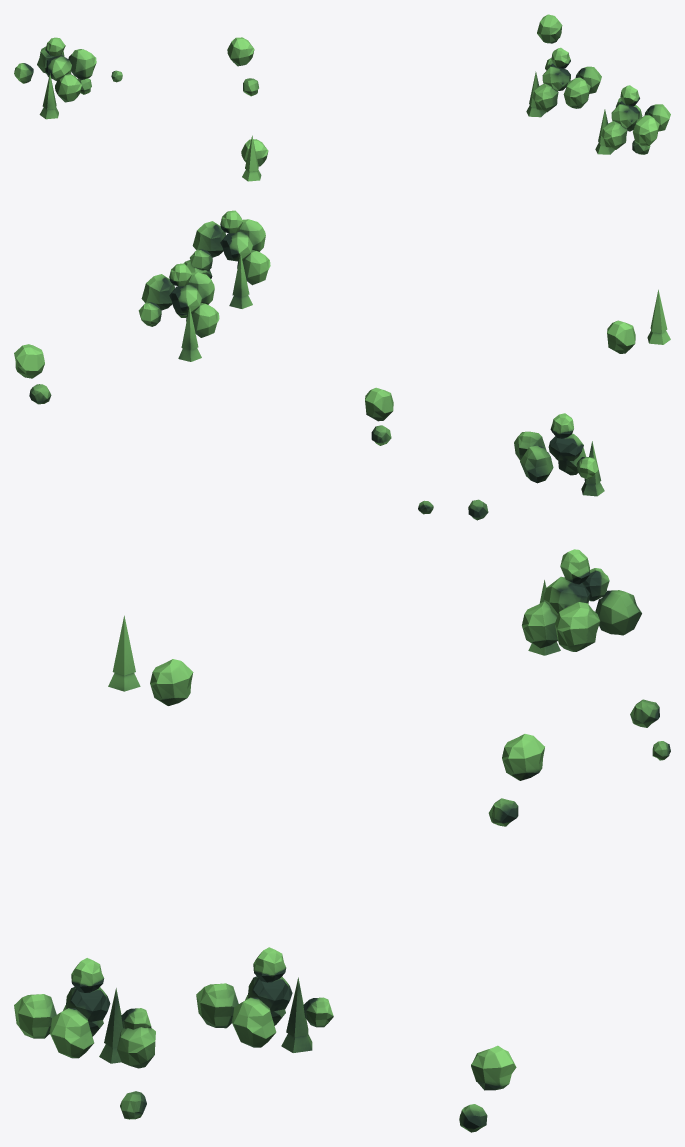
The model's file is Wood_04.FBX.
3 views of the same model, one above another, from view 1: azimuth 30°, elevation 25°; view 2: azimuth 150°, elevation 25°; view 3: azimuth 270°, elevation 25° (orthographic). The views are drawn at different scales.
Visible parts, largest first — view 1: Wood_04; view 2: Wood_04; view 3: Wood_04.
Part boxes in pixels (left/top/right/bottom): Wood_04: left=14, top=14, right=670, bottom=181; Wood_04: left=14, top=210, right=670, bottom=520; Wood_04: left=14, top=549, right=670, bottom=1132.
Bounding box in the file's own units: 32.16 × 7.62 × 21.82.
